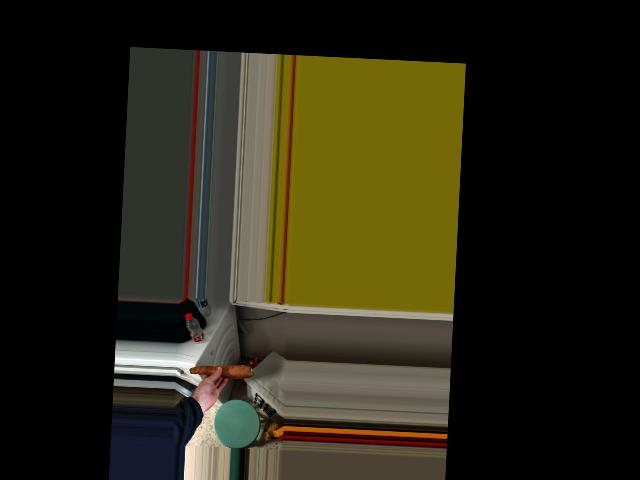sweet_potato: (188, 361, 252, 384)
